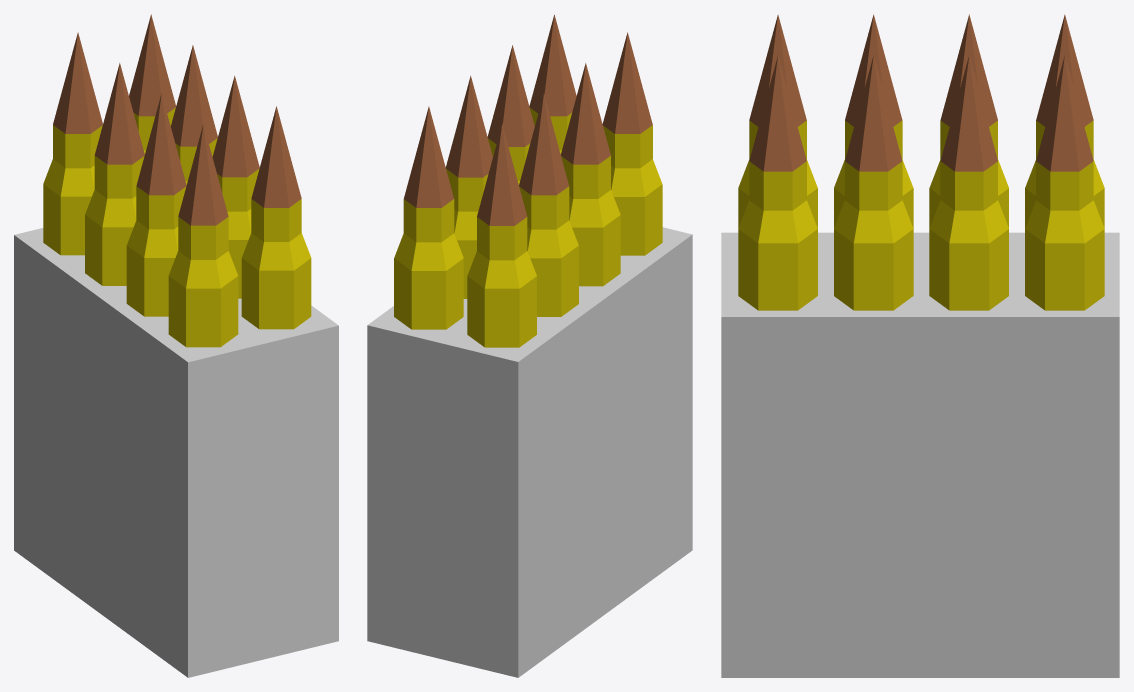
The model's file is Ammobox.fbx.
The picture shows the model from 3 angles, left to right: view 1: azimuth 30°, elevation 25°; view 2: azimuth 150°, elevation 25°; view 3: azimuth 270°, elevation 25°; orthographic projection. The views are drawn at different scales.
Parts seen in each view (by area): view 1: AmmoBox, Cylinder; view 2: AmmoBox, Cylinder; view 3: AmmoBox, Cylinder.
Part boxes in pixels (x1,y1,x2,y2): AmmoBox: [14, 228, 338, 677]; Cylinder: [43, 14, 311, 347]; AmmoBox: [367, 227, 692, 677]; Cylinder: [394, 14, 662, 347]; AmmoBox: [721, 232, 1119, 677]; Cylinder: [738, 14, 1104, 310].
Bounding box in the file's own units: 14 × 46.7 × 28.
